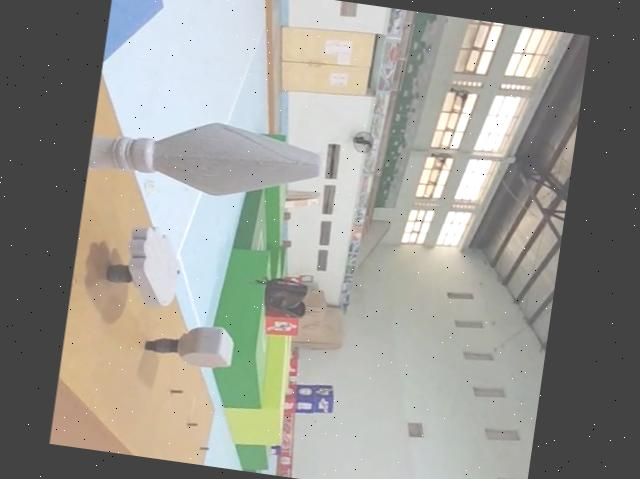Fist: (142, 316, 240, 372)
Hand: (97, 219, 189, 307)
Sph: (87, 102, 331, 214)
